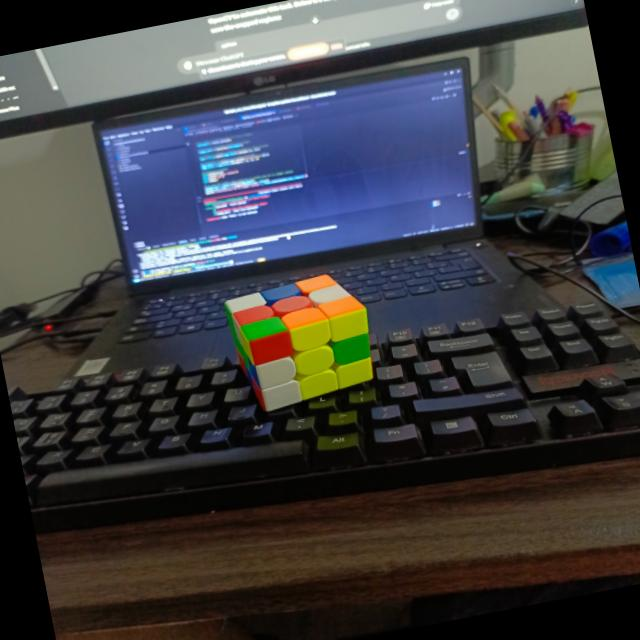rubik: (219, 266, 383, 416)
